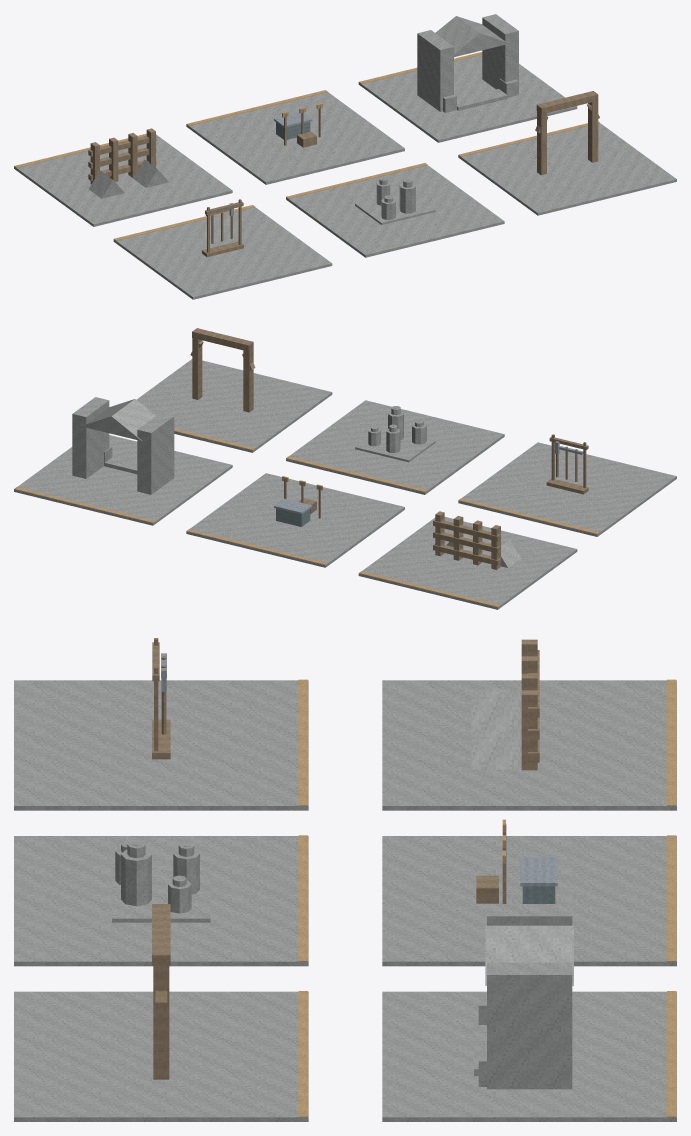
The model's file is level_blockout_kit_wld_03_p02.glb.
3 renders of one model, top to bottom at view 1: azimuth 30°, elevation 25°; view 2: azimuth 150°, elevation 25°; view 3: azimuth 270°, elevation 25°, orthographic. The views are drawn at different scales.
Visible parts, largest first — view 1: level_blockout_kit_wld_03_p02; view 2: level_blockout_kit_wld_03_p02; view 3: level_blockout_kit_wld_03_p02.
Boxes of the visible parts, box(x1,y1,x2,y2) form: level_blockout_kit_wld_03_p02: box(14, 14, 676, 299); level_blockout_kit_wld_03_p02: box(14, 328, 676, 609); level_blockout_kit_wld_03_p02: box(14, 638, 676, 1121).
Bounding box in the file's own units: 19.65 × 2.8 × 12.6.
Materials: 5 (5 with a texture image).
